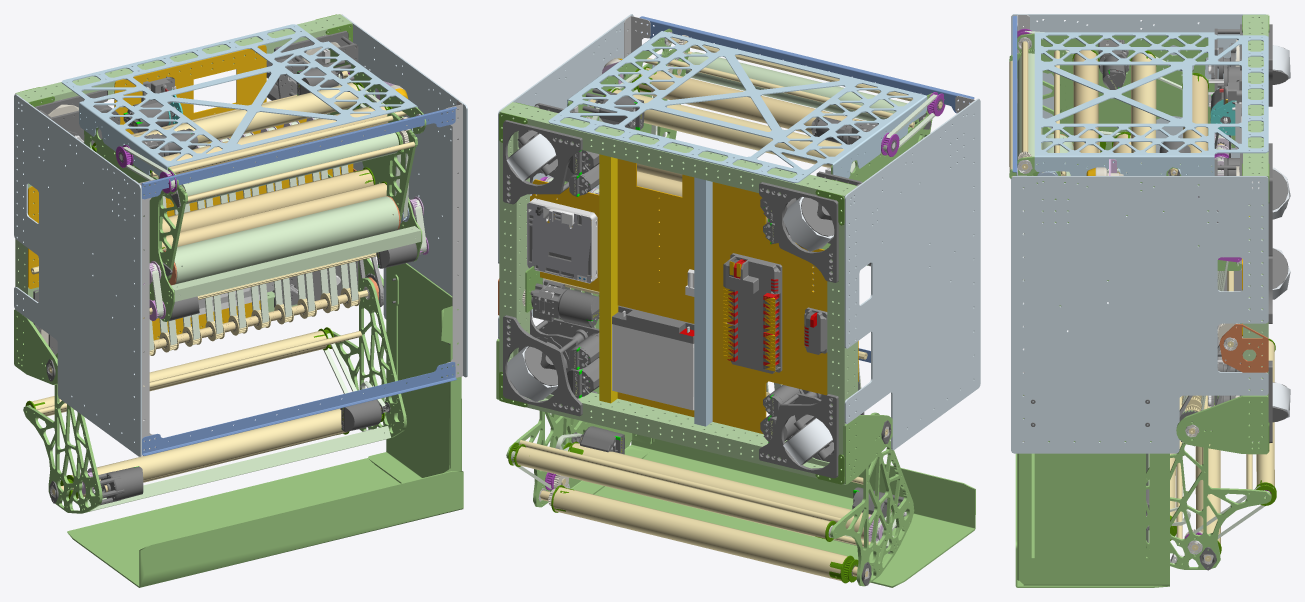
The model's file is leviticus.glb.
3 renders of one model, left to right at view 1: azimuth 30°, elevation 25°; view 2: azimuth 150°, elevation 25°; view 3: azimuth 270°, elevation 25°, orthographic. The views are drawn at different scales.
Parts seen in each view (by area): view 1: Part 8 (×2), object 9, object 52, object 124, object 49, object 414, Part 36 (×2), Part 1 (×2), object 141, Part 35 (×2), 175 Tooth x 15mm HTD5 Belt (×7), Simplified Swerve X2 (×3) (+10 smaller); view 2: Part 8 (×2), object 141, Simplified Swerve X2 (×4), object 49, object 124, object 138, object 9, Tube 2"x1.5"x30" (×2), Tube 2"x1.5"x21" (×2), Part 1 (×2), object 414, object 137 (+10 smaller); view 3: Part 8 (×2), object 9, object 124, Simplified Swerve X2 (×4), object 49, Index Plate (×2), Pivot Plate, Part 1, object 414, Tube 2"x1.5"x30", object 52, object 385 (+10 smaller).
Part boxes in pixels (<box>): Part 8 (×2): <box>14,14,467,456</box>; object 9: <box>67,263,463,587</box>; object 52: <box>87,132,420,512</box>; object 124: <box>61,24,417,204</box>; object 49: <box>31,82,406,498</box>; object 414: <box>131,71,388,250</box>; Part 36 (×2): <box>141,106,456,455</box>; Part 1 (×2): <box>23,277,406,513</box>; object 141: <box>28,45,408,340</box>; Part 35 (×2): <box>134,101,462,450</box>; 175 Tooth x 15mm HTD5 Belt (×7): <box>197,118,358,339</box>; Simplified Swerve X2 (×3): <box>35,31,358,307</box>; Part 8 (×2): <box>498,14,980,450</box>; object 141: <box>530,58,858,433</box>; Simplified Swerve X2 (×4): <box>503,103,864,478</box>; object 49: <box>516,37,942,581</box>; object 124: <box>548,31,927,426</box>; object 138: <box>527,120,856,410</box>; object 9: <box>554,288,975,587</box>; Tube 2"x1.5"x30" (×2): <box>499,102,857,484</box>; Tube 2"x1.5"x21" (×2): <box>499,131,857,457</box>; Part 1 (×2): <box>506,411,914,586</box>; object 414: <box>589,68,864,223</box>; object 137: <box>599,154,617,403</box>; Part 8 (×2): <box>1011,14,1268,453</box>; object 9: <box>1015,395,1169,587</box>; object 124: <box>1034,32,1268,175</box>; Simplified Swerve X2 (×4): <box>1208,24,1290,443</box>; object 49: <box>1021,41,1274,561</box>; Index Plate (×2): <box>1017,33,1241,306</box>; Pivot Plate: <box>1176,395,1268,454</box>; Part 1: <box>1146,410,1271,569</box>; object 414: <box>1073,50,1207,175</box>; Tube 2"x1.5"x30": <box>1243,14,1268,178</box>; object 52: <box>1017,53,1149,542</box>; object 385: <box>1219,324,1268,372</box>.
Size of the model in its own units: 0.7761 by 0.911 by 0.5618.
